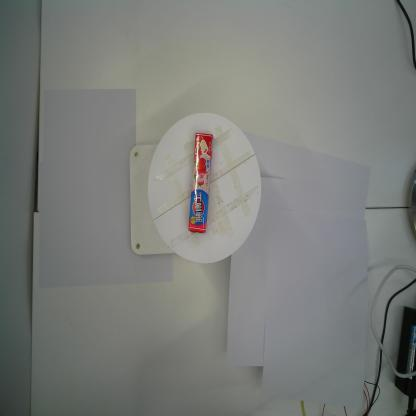Candy: (187, 132, 214, 235)
